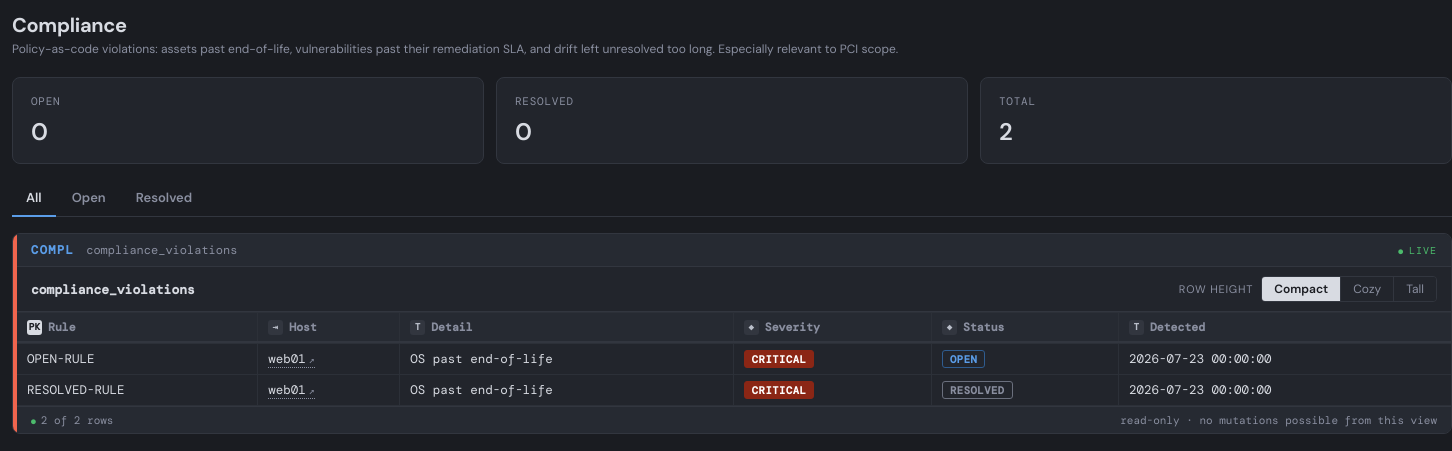
Compl page — Open/Resolved tile accuracy (TRK-167 follow-up: fleet-wide aggregate) › switches between All/Open/Resolved via the Tabs control
Expected: the text "OPEN-RULE" is shown, [17,344,258,374]
Expected: the text "RESOLVED-RULE" is shown, [17,374,258,406]
Click the tab "Resolved". click: {"x": 164, "y": 198}
box: [122,180,206,217]
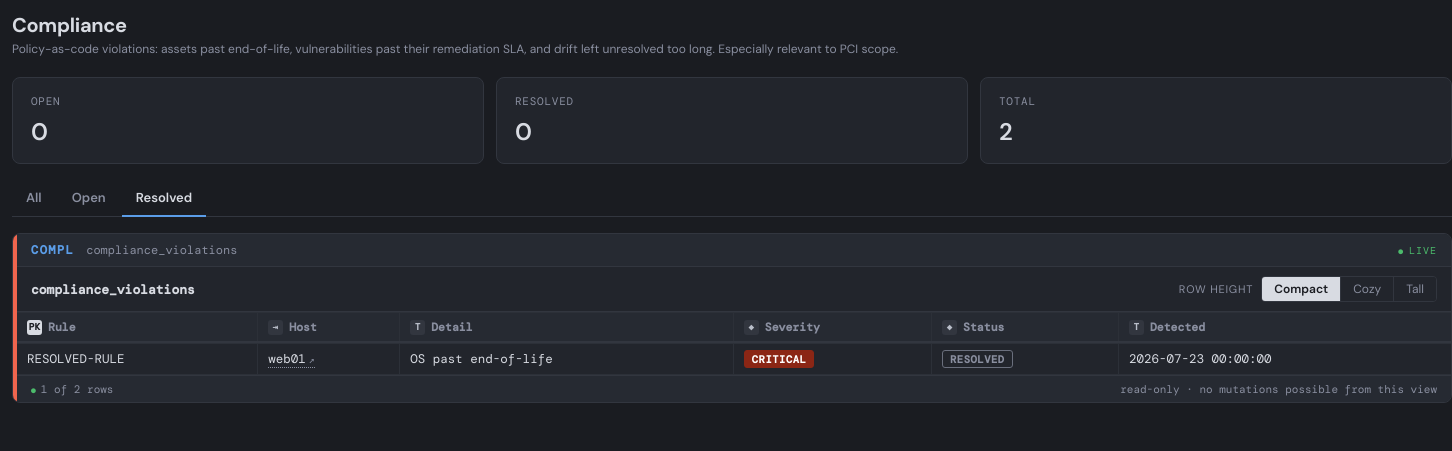
Expected: the text "RESOLVED-RULE" is shown, [17,344,258,374]
Expected: the text "OPEN-RULE" is gone
